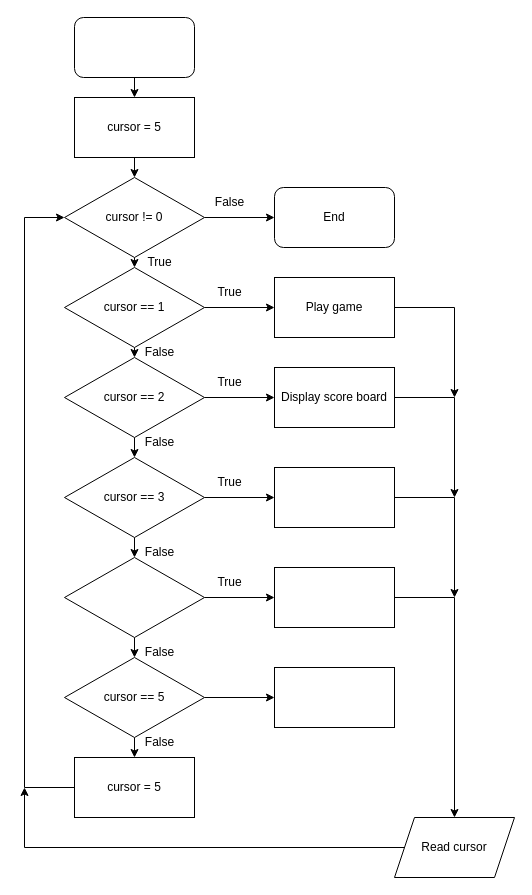
Some shapes in this 532 by 895 pixel diagram are drawn without their labels. Here are the shapes that lost their labels. From the top down, the centre of each, then its label:
pixel 134 47: Start
pixel 334 497: Edit settings
pixel 134 597: cursor == 4
pixel 334 597: Display manual
pixel 334 697: Display main menu
